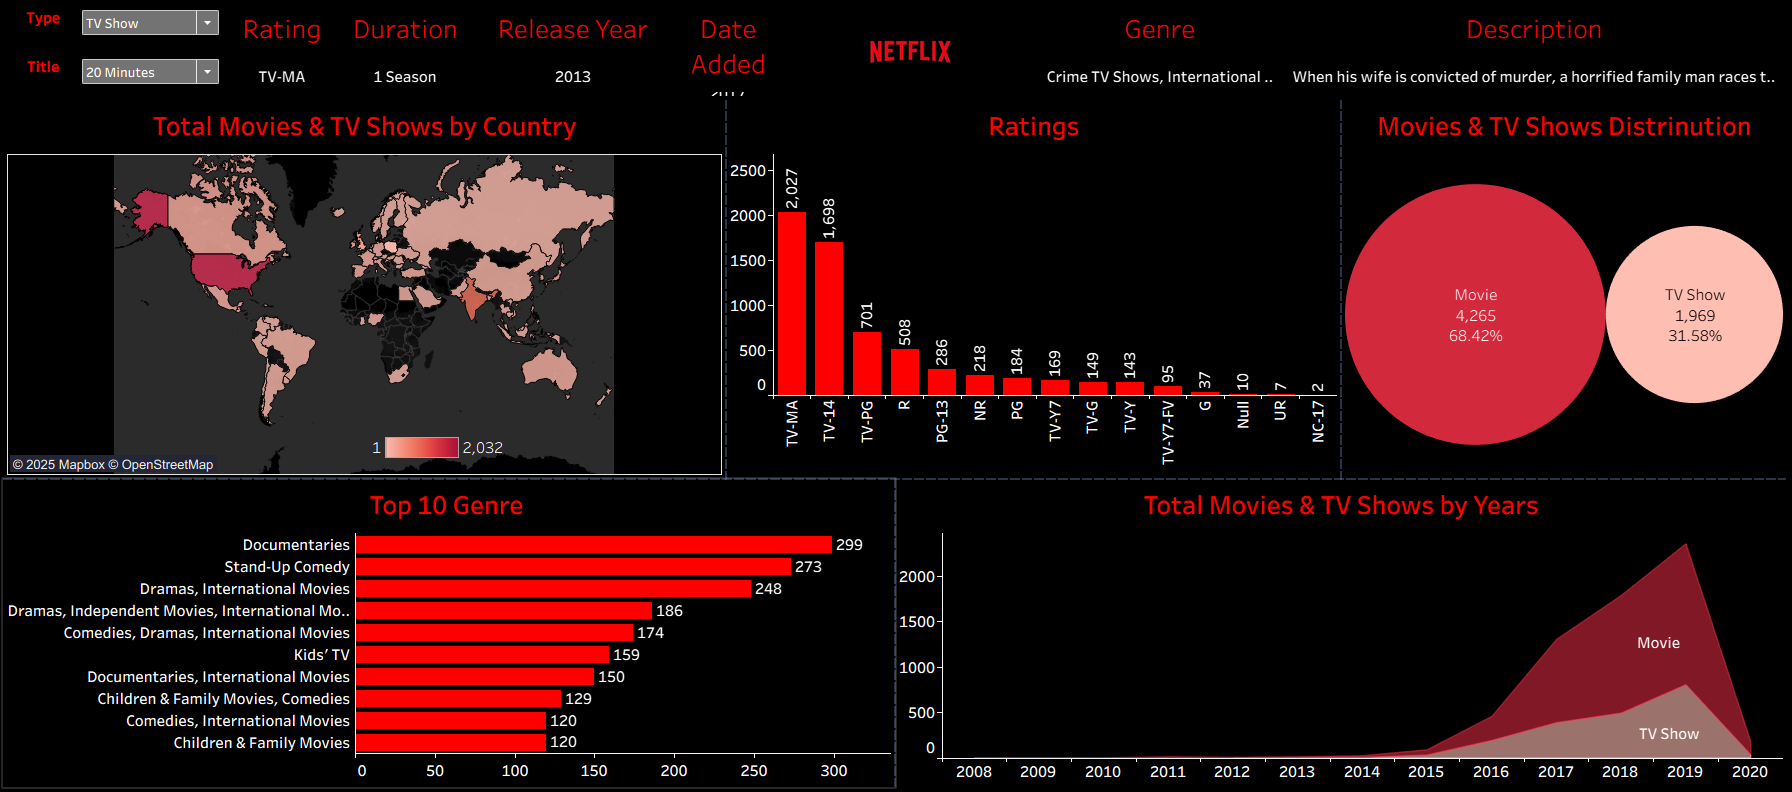

The page's visual inventory and layout, read from the dashboard file:
{"tool":"tableau","page":{"name":"NETFLIX","canvas":[1800,1000],"ordinal":0},"visuals":[{"type":"filter","title":"Description","param":"[federated.0fxlnen1pltizt1g3o63r09l0yl7].[none:type:nk]","box":[8,8,223,61]},{"type":"worksheet","title":"Rating","mark":"Automatic","box":[231,8,111.5,122]},{"type":"worksheet","title":"Duration","mark":"Automatic","box":[342.5,8,135.7,122]},{"type":"worksheet","title":"Releaing Year","mark":"Automatic","box":[478.2,8,198.8,122]},{"type":"worksheet","title":"Date Added","mark":"Automatic","box":[677,8,223,122]},{"type":"worksheet","title":"Genre","mark":"Automatic","box":[900,8,343.8,122]},{"type":"worksheet","title":"Description","mark":"Automatic","box":[1243.8,8,548.2,122]},{"type":"filter","title":"Description","param":"[federated.0fxlnen1pltizt1g3o63r09l0yl7].[none:title:nk]","box":[8,69,223,61]},{"type":"worksheet","title":"Total Movies by Country","mark":"Multipolygon","box":[8,130,514,475.9]},{"type":"image","param":"C:/Users/Administrator/Downloads/Netflix logo designed in pixellabe mobile_.jfif","box":[522,130,209,475.9]},{"type":"worksheet","title":"Ratings","mark":"Automatic","rows":["show_id"],"cols":["rating"],"box":[731,130,615,475.9]},{"type":"worksheet","title":"Movies & TV Shows Distrinution","mark":"Circle","box":[1346,130,446,475.9]},{"type":"legend","title":"Total Movies by Country","param":"[federated.0fxlnen1pltizt1g3o63r09l0yl7].[ctd:show_id:qk]","box":[373,548,140,47]},{"type":"worksheet","title":"Top 10 Genre ","mark":"Automatic","rows":["listed_in"],"cols":["show_id"],"box":[8,605.9,892,386.1]},{"type":"worksheet","title":"T Movies & TV Shows","mark":"Area","rows":["show_id"],"cols":["date_added"],"box":[900,605.9,892,386.1]}]}

Visuals, with their boxes on the page's 1800x1000 design canvas (x1, y1, x2, y2). These are canvas units, not pixel positions in the 1792x792 screenshot, which may show the page scaled, cropped or inside an application window:
"Description" filter: box=[8, 8, 231, 69]
"Rating" worksheet: box=[231, 8, 342, 130]
"Duration" worksheet: box=[342, 8, 478, 130]
"Releaing Year" worksheet: box=[478, 8, 677, 130]
"Date Added" worksheet: box=[677, 8, 900, 130]
"Genre" worksheet: box=[900, 8, 1244, 130]
"Description" worksheet: box=[1244, 8, 1792, 130]
"Description" filter: box=[8, 69, 231, 130]
"Total Movies by Country" worksheet (Multipolygon marks): box=[8, 130, 522, 606]
image: box=[522, 130, 731, 606]
"Ratings" worksheet: box=[731, 130, 1346, 606]
"Movies & TV Shows Distrinution" worksheet (Circle marks): box=[1346, 130, 1792, 606]
"Total Movies by Country" legend: box=[373, 548, 513, 595]
"Top 10 Genre " worksheet: box=[8, 606, 900, 992]
"T Movies & TV Shows" worksheet (Area marks): box=[900, 606, 1792, 992]
